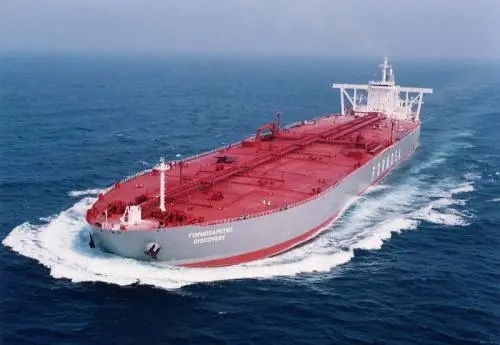Cargoship: (75, 53, 438, 258)
